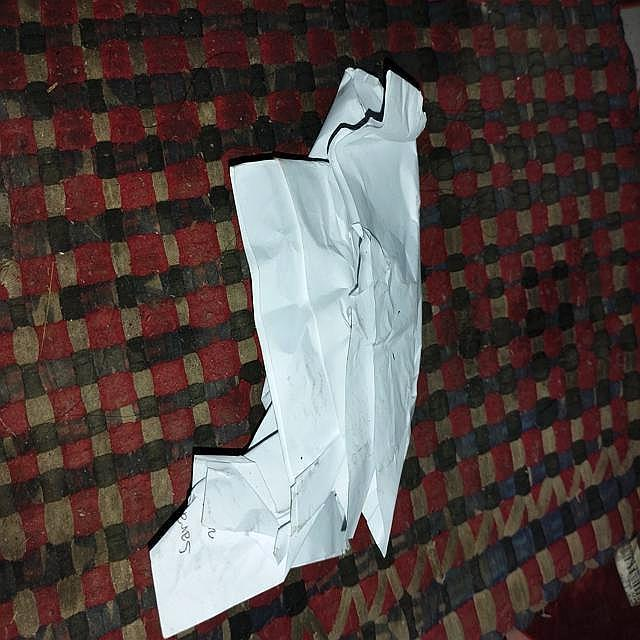Biodegradable: (150, 69, 424, 640)
